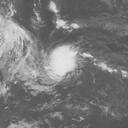cyclone: (49, 46, 81, 79)
